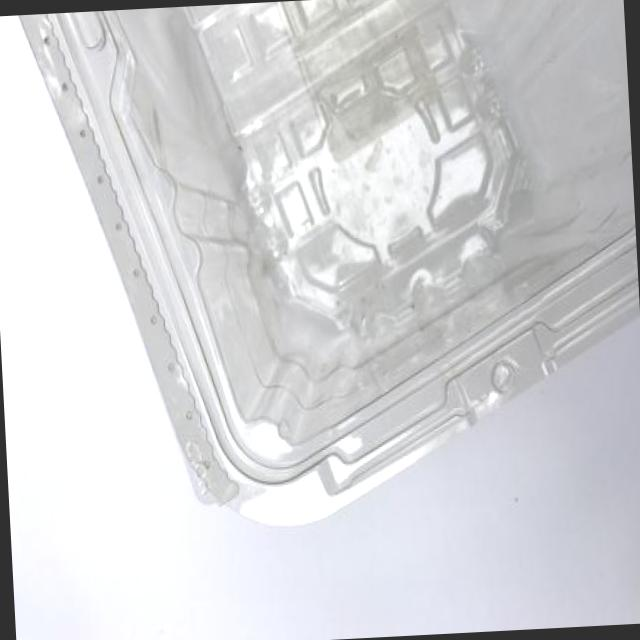Recycle: (18, 0, 640, 541)
